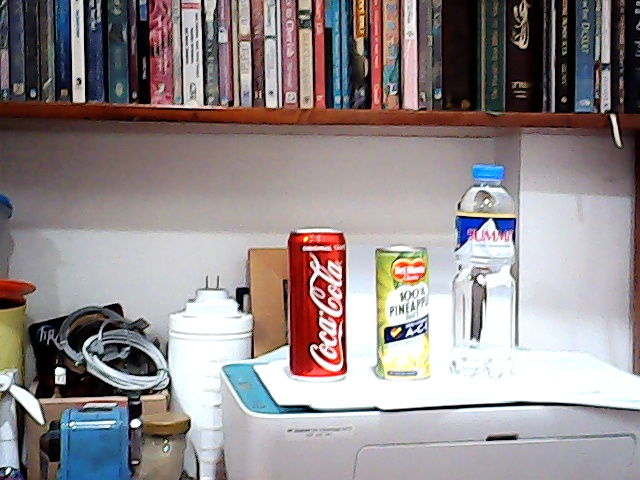Cola: (276, 221, 353, 385)
Pine Juice: (365, 237, 439, 381)
Summit Water: (447, 157, 522, 386)
